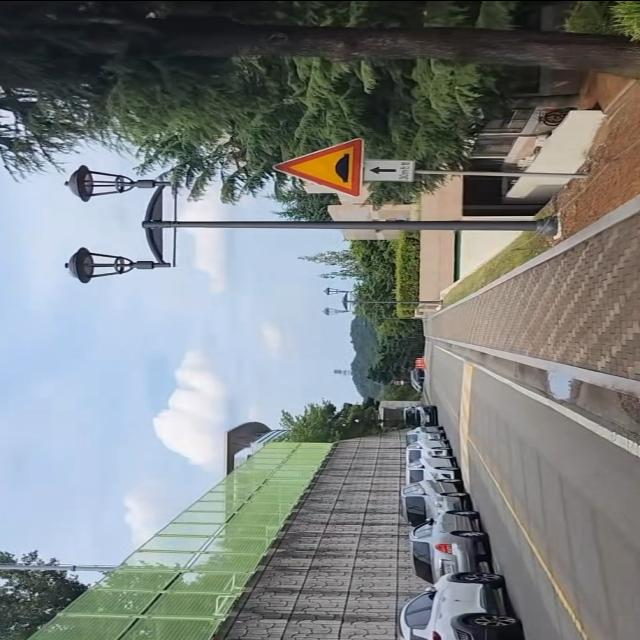obstacle: (56, 162, 557, 290), (262, 133, 594, 202)
road: (429, 339, 640, 640)
sidewalk: (424, 193, 640, 393)
